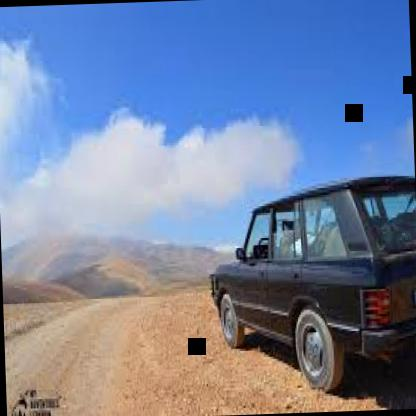car: (181, 179, 416, 404)
